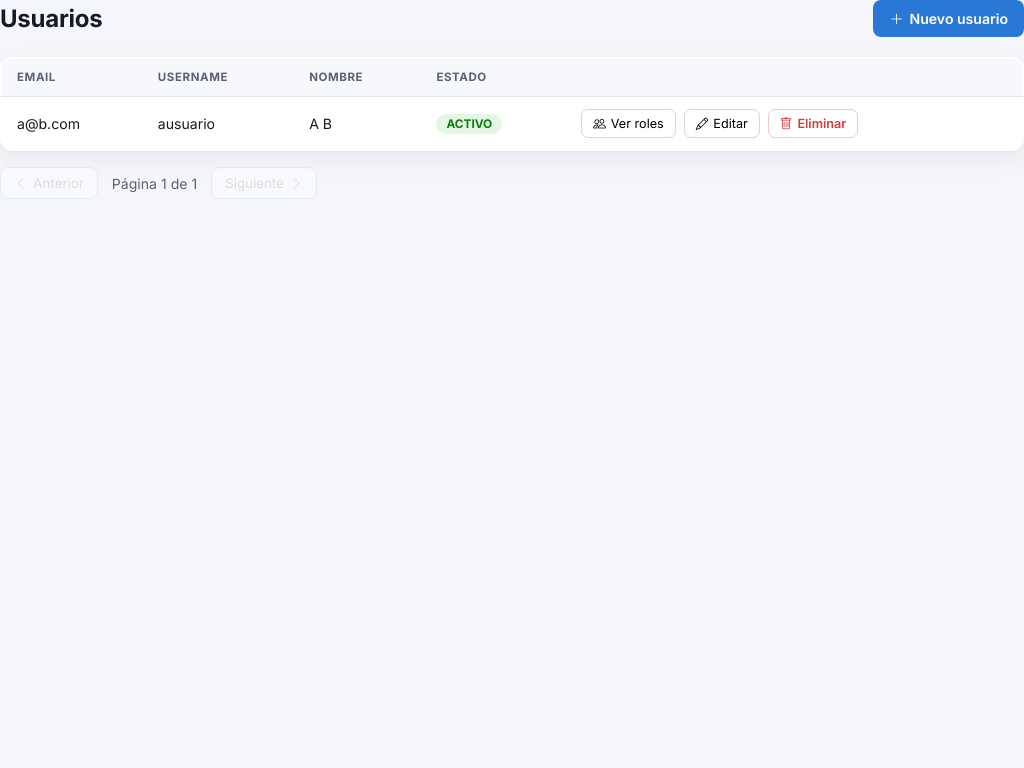
Test: UsersPage › abre el formulario de edición con los datos precargados
Expected: the text "a@b.com" is shown, [0, 96, 142, 150]
Click the button "Editar".
click(722, 124)  # box [684, 109, 760, 138]
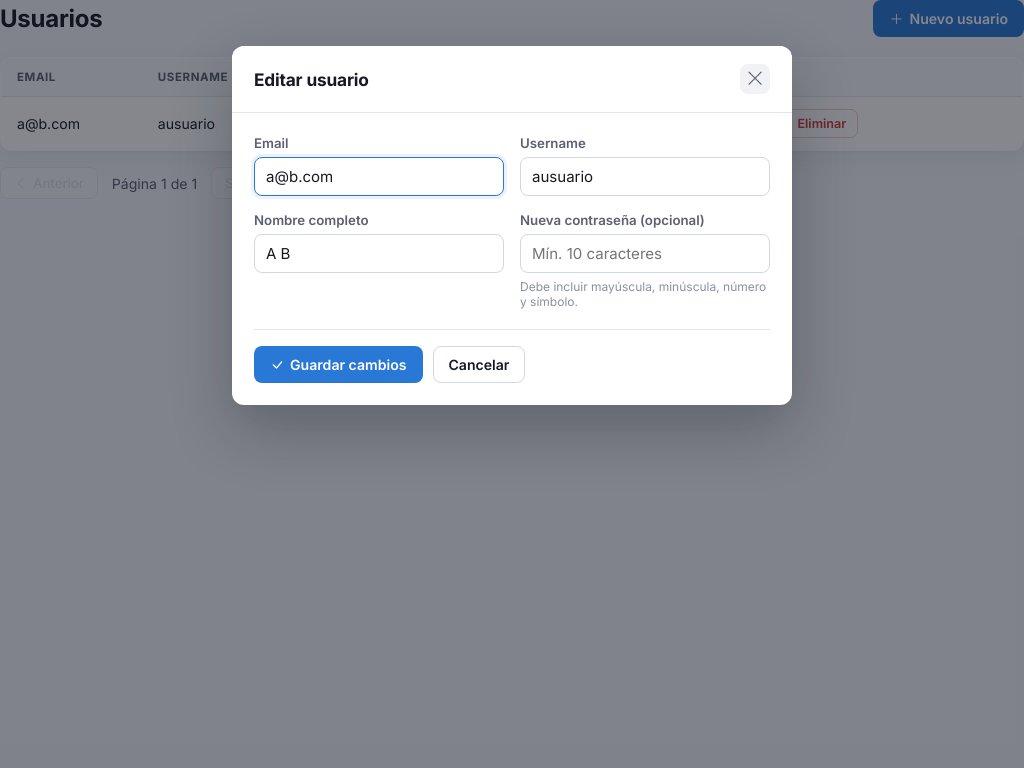
Expected: the field showing "a@b.com" is shown, [254, 157, 504, 196]
Expected: the button "Guardar cambios" is shown, [254, 346, 422, 383]
